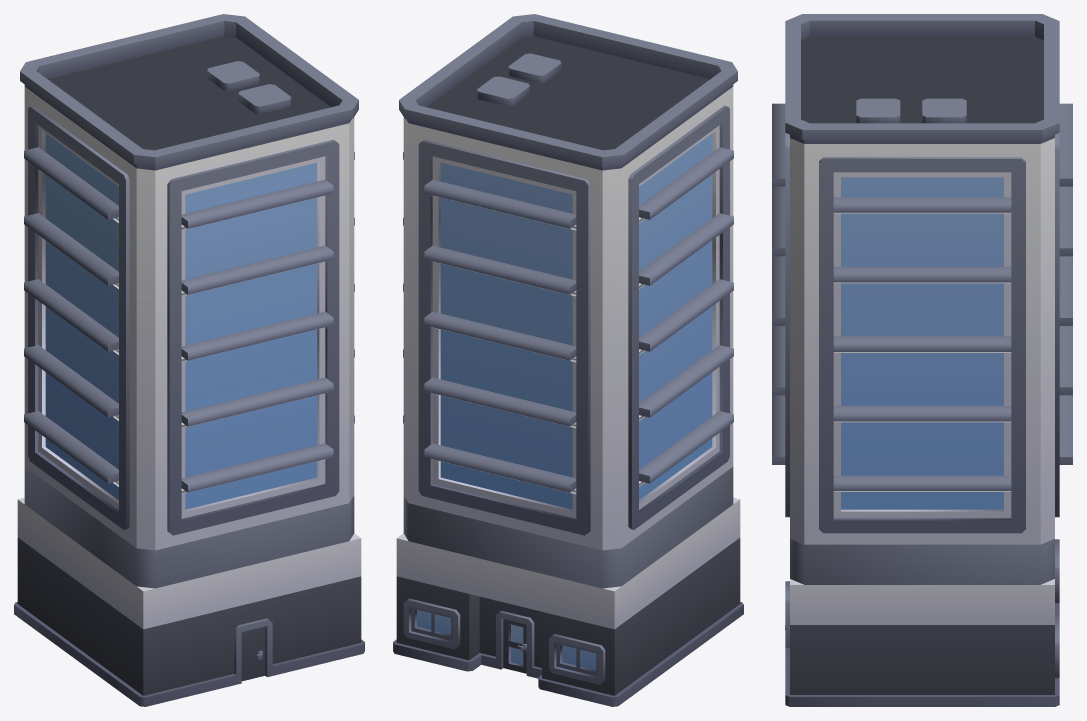
The model's file is k_c_building-skyscraper-a.glb.
The picture shows the model from 3 angles, left to right: view 1: azimuth 30°, elevation 25°; view 2: azimuth 150°, elevation 25°; view 3: azimuth 270°, elevation 25°; orthographic projection. The views are drawn at different scales.
Visible parts, largest first — view 1: building-skyscraper-a; view 2: building-skyscraper-a; view 3: building-skyscraper-a.
Part boxes in pixels (x1,y1,x2,y2): building-skyscraper-a: (14,14,364,706); building-skyscraper-a: (393,14,743,706); building-skyscraper-a: (772,14,1072,706).
Bounding box in the file's own units: 1.36 × 2.88 × 1.36.
Materials: 1 (1 with a texture image).
